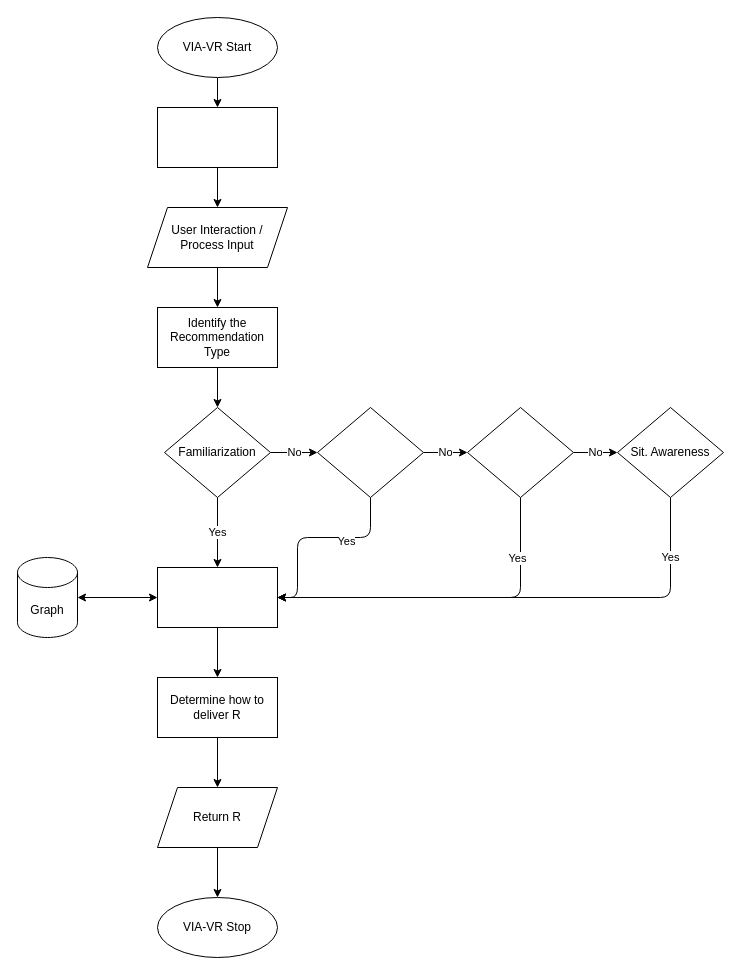
Image size: 741x975. Some labels were removed from this diagram. Here are the shapes that lost their labels. From the top down, the centre of each, then its label:
At (217,137): "Identify the Active Component".
At (370,452): "Navigation".
At (520,452): "Composition".
At (217,597): "Employ corresponding XCS Instance".
